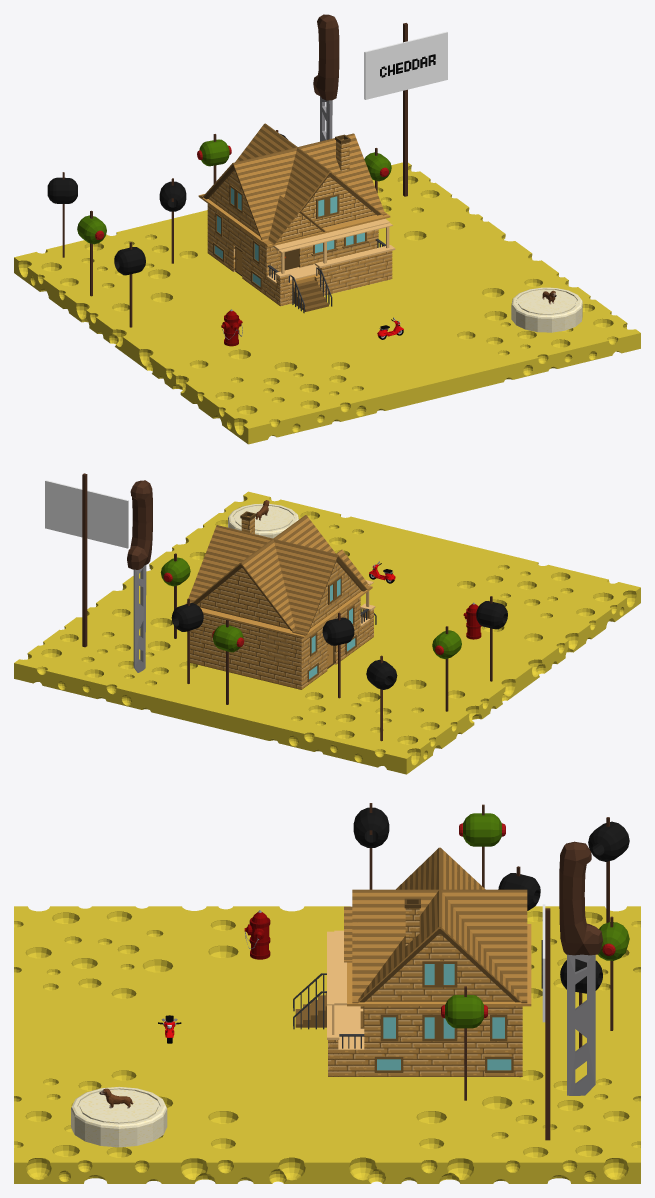
3 views of the same model, one above another, from view 1: azimuth 30°, elevation 25°; view 2: azimuth 150°, elevation 25°; view 3: azimuth 270°, elevation 25° (orthographic). The views are drawn at different scales.
Visible parts, largest first — view 1: Cube.022, Cube.508, Cube.023, Cylinder.016, Cube.024, Sphere.017, Sphere.016, Sphere.020, Sphere.018, Sphere.022, Sphere.019; view 2: Cube.022, Cube.508, Cube.023, Cube.024, Cylinder.016, Sphere.017, Sphere.020, Sphere.021, Sphere.016, Sphere.018, Sphere.022, Sphere.019 (+1 smaller); view 3: Cube.022, Cube.508, Cube.024, Cylinder.016, Cube.023, Sphere.019, Sphere.016, Sphere.018, Sphere.017, Sphere.022, OBJRANDOM_FIRE_HYDRANT, Sphere.020 (+1 smaller).
Boxes of the visible parts, x1,y1,x2,y2 form: Cube.022: (14, 162, 640, 444); Cube.508: (198, 123, 395, 313); Cube.023: (364, 23, 447, 196); Cylinder.016: (511, 287, 582, 332); Cube.024: (313, 14, 339, 141); Sphere.017: (114, 242, 145, 327); Sphere.016: (47, 172, 77, 257); Sphere.020: (159, 178, 186, 263); Sphere.018: (77, 210, 106, 296); Sphere.022: (197, 134, 231, 183); Sphere.019: (364, 148, 391, 192); Cube.022: (14, 491, 640, 774); Cube.508: (185, 511, 376, 689); Cube.023: (45, 473, 128, 647); Cube.024: (127, 480, 152, 672); Cylinder.016: (228, 503, 298, 538); Sphere.017: (476, 596, 507, 681); Sphere.020: (322, 612, 354, 698); Sphere.021: (171, 598, 203, 683); Sphere.016: (366, 655, 397, 741); Sphere.018: (432, 626, 461, 711); Sphere.022: (212, 619, 244, 704); Sphere.019: (160, 553, 190, 638); Cube.022: (14, 906, 640, 1183); Cube.508: (293, 847, 531, 1076); Cube.024: (559, 841, 602, 1095); Cylinder.016: (71, 1086, 167, 1147); Cube.023: (541, 904, 550, 1140); Sphere.019: (441, 986, 487, 1100); Sphere.016: (588, 817, 629, 922); Sphere.018: (459, 804, 505, 887); Sphere.017: (353, 803, 389, 889); Sphere.022: (598, 916, 629, 1030); OBJRANDOM_FIRE_HYDRANT: (244, 910, 270, 959); Sphere.020: (498, 866, 540, 910).
Size of the model in its own units: 3917 by 2030 by 4000.
35 materials, 5 textured.
